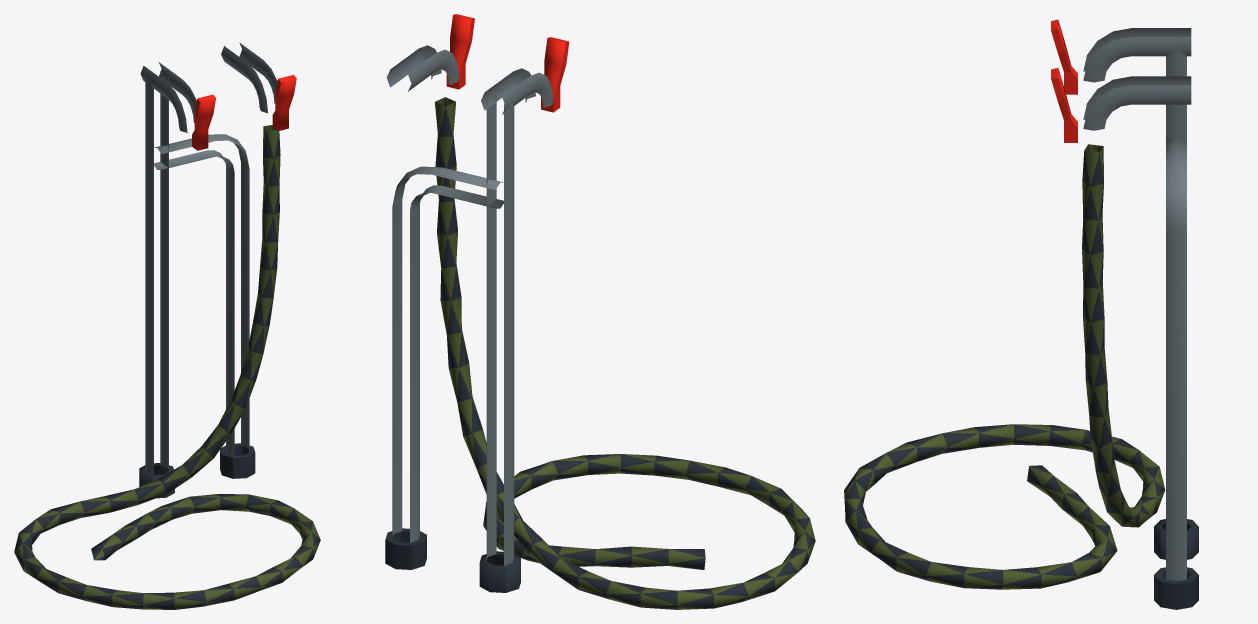
The model's file is g_o_WaterOutlet.fbx.
3 views of the same model, side by side, from view 1: azimuth 30°, elevation 25°; view 2: azimuth 150°, elevation 25°; view 3: azimuth 270°, elevation 25° (orthographic). The views are drawn at different scales.
Visible parts, largest first — view 1: g_o_WaterOutlet; view 2: g_o_WaterOutlet; view 3: g_o_WaterOutlet.
Part boxes in pixels (left/top/right/bottom): g_o_WaterOutlet: left=14, top=42, right=320, bottom=609; g_o_WaterOutlet: left=385, top=14, right=815, bottom=609; g_o_WaterOutlet: left=844, top=19, right=1198, bottom=609.
Size of the model in its own units: 0.5481 by 0.7948 by 0.5331.
